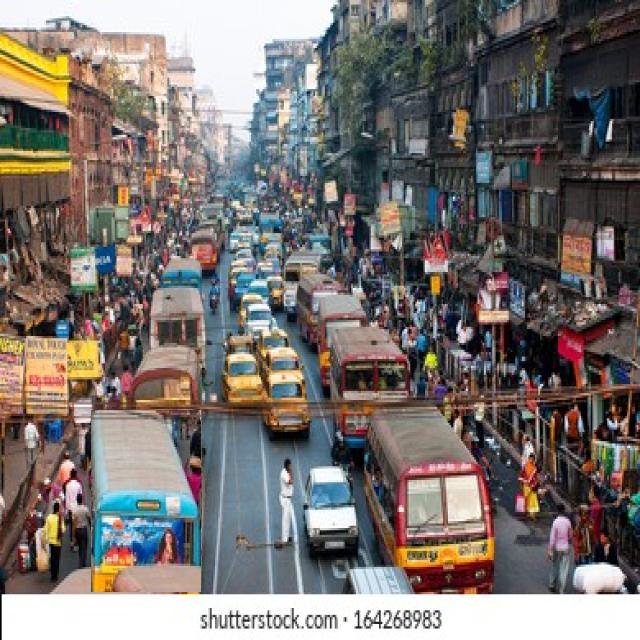bus: (364, 409, 495, 593), (91, 411, 201, 592), (330, 327, 409, 448)
car: (304, 467, 359, 555)
